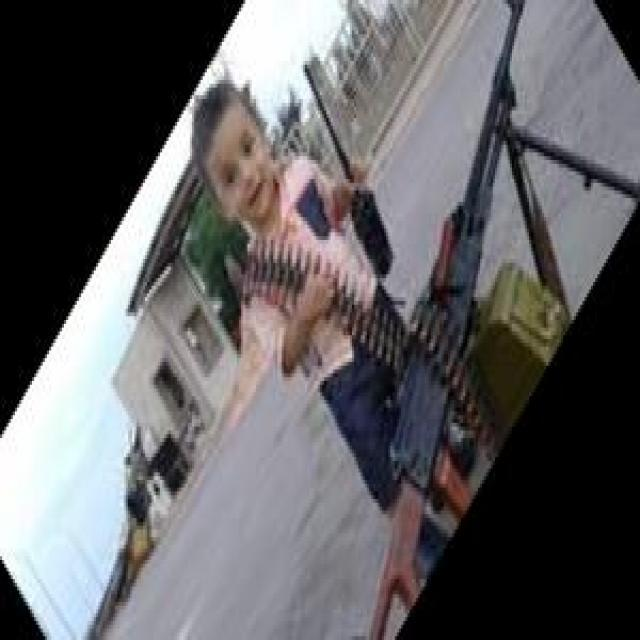weapon: (370, 0, 640, 640)
